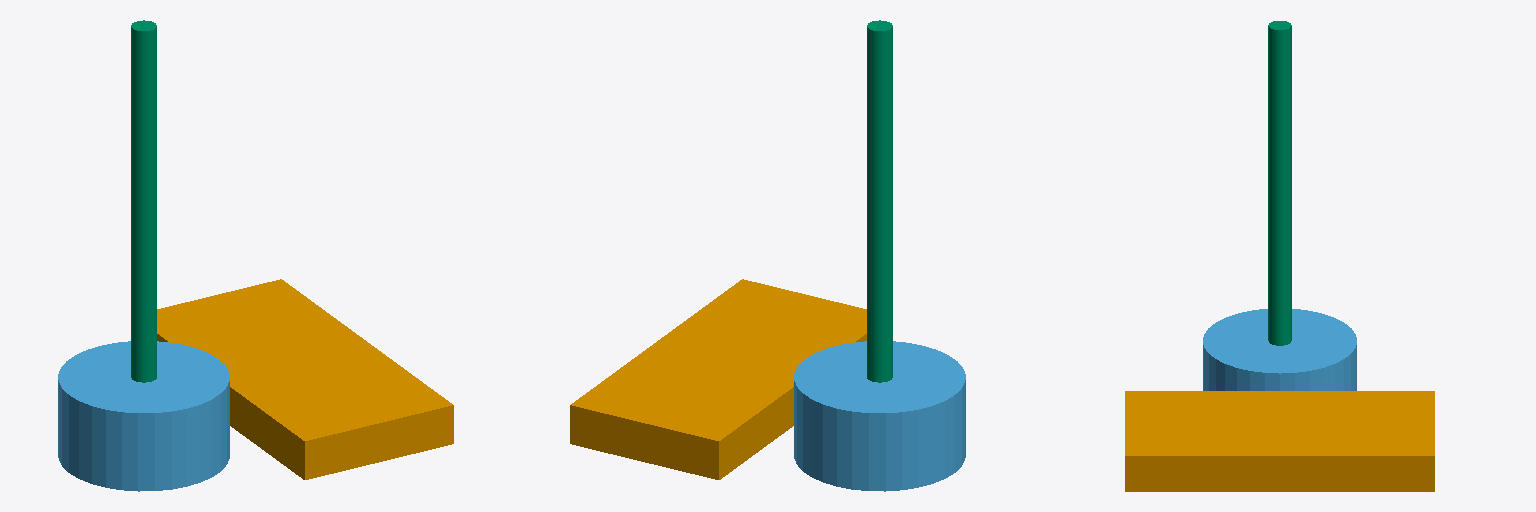
The robot description file, URDF, robot "robot":
<?xml version="1.0"?>
<robot name="robot">
  <link name="base_link">
    <visual>
      <geometry>
        <box size="0.04 0.08 0.01"/>
      </geometry>
    </visual>
  </link>
  <link name="motor_link">
    <visual>
      <geometry>
        <cylinder length="0.02" radius="0.02"/>
      </geometry>
    </visual>
  </link>
  <link name="joint_link">
    <visual>
      <origin xyz="0 0 -0.05" />
      <geometry>
        <cylinder length="0.1" radius="0.003"/>
      </geometry>
    </visual>
  </link>
  <link name="range">
  </link>

  <joint name="base_to_motor" type="fixed">
    <parent link="base_link" />
    <child link="motor_link" />
    <origin xyz="-0.04 0 0" />
  </joint>
  <joint name="base_to_range" type="fixed">
    <parent link="base_link" />
    <child link="range" />
    <origin xyz="0.04 0 0" />
  </joint>
  <joint name="joint1" type="revolute">
    <axis xyz="0 0 1"/>
    <limit effort="1000.0" lower="-3.14" upper="3.14" velocity="0.5"/>
    <origin xyz="0 0 0.1" />
    <parent link="motor_link" />
    <child link="joint_link" />
  </joint>

</robot>

--- Facts derived from the render (not from the file) ---
Views: 3 orthographic renders of the robot side by side, from view 1: azimuth 30°, elevation 25°; view 2: azimuth 150°, elevation 25°; view 3: azimuth 270°, elevation 25°.
Robot: robot — 4 links, 3 joints (1 revolute, 2 fixed); root link base_link; default pose: all joints at 0.
Links seen in each view (by area): view 1: base_link, motor_link, joint_link; view 2: base_link, motor_link, joint_link; view 3: base_link, motor_link, joint_link.
Link boxes in pixels (x1,y1,x2,y2): base_link: [157, 279, 453, 479]; motor_link: [58, 341, 229, 491]; joint_link: [131, 20, 156, 382]; base_link: [570, 279, 866, 479]; motor_link: [794, 341, 965, 491]; joint_link: [867, 20, 892, 382]; base_link: [1125, 391, 1434, 491]; motor_link: [1203, 309, 1356, 390]; joint_link: [1268, 21, 1291, 345].
Size in the robot's own frame: 0.08 by 0.08 by 0.11 metres.
Geometry: primitives only (box / cylinder / sphere), no mesh files.